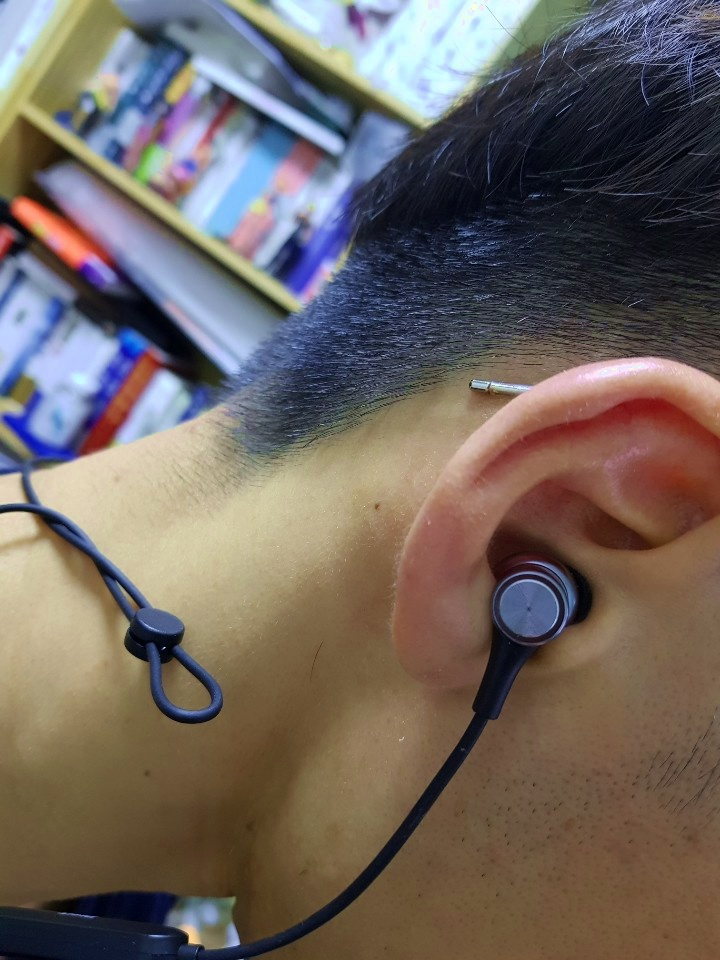earphone: (390, 357, 719, 686)
